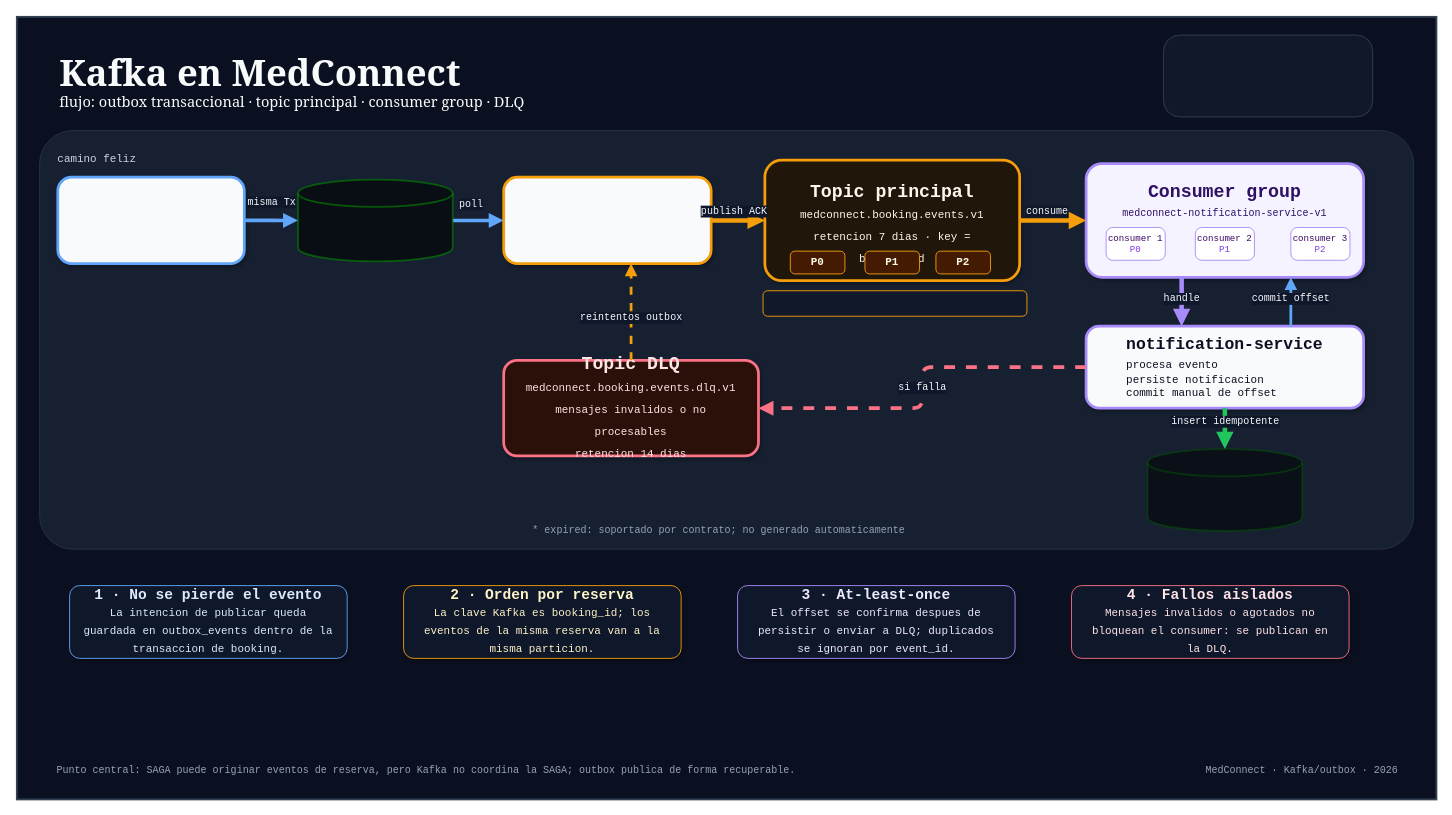
Image size: 1452x815. Some labels were removed from this diagram. Here are the shapes that lost their labels. From the top down, the centre of each, then its label:
pixel 1268 75: LECTURA ━━▶ evento Kafka ━━▶ persistencia / ACK ● DLQ
pixel 151 221: Booking service crea / confirma / cancela reserva
pixel 375 220: booking_db appointments appointment_events outbox_events
pixel 608 221: Dispatcher Outbox lee pendientes publica y espera ACK retry + backoff
pixel 894 303: created · confirmed · cancelled · expired*
pixel 1224 489: notification_db event_id UNIQUE ON CONFLICT DO NOTHING
